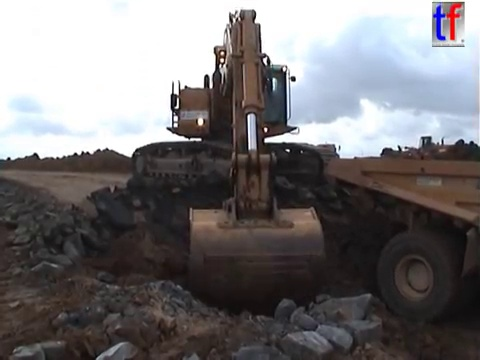excavator: (124, 6, 344, 308)
truck: (322, 154, 480, 326)
wheel loader: (378, 133, 459, 169)
